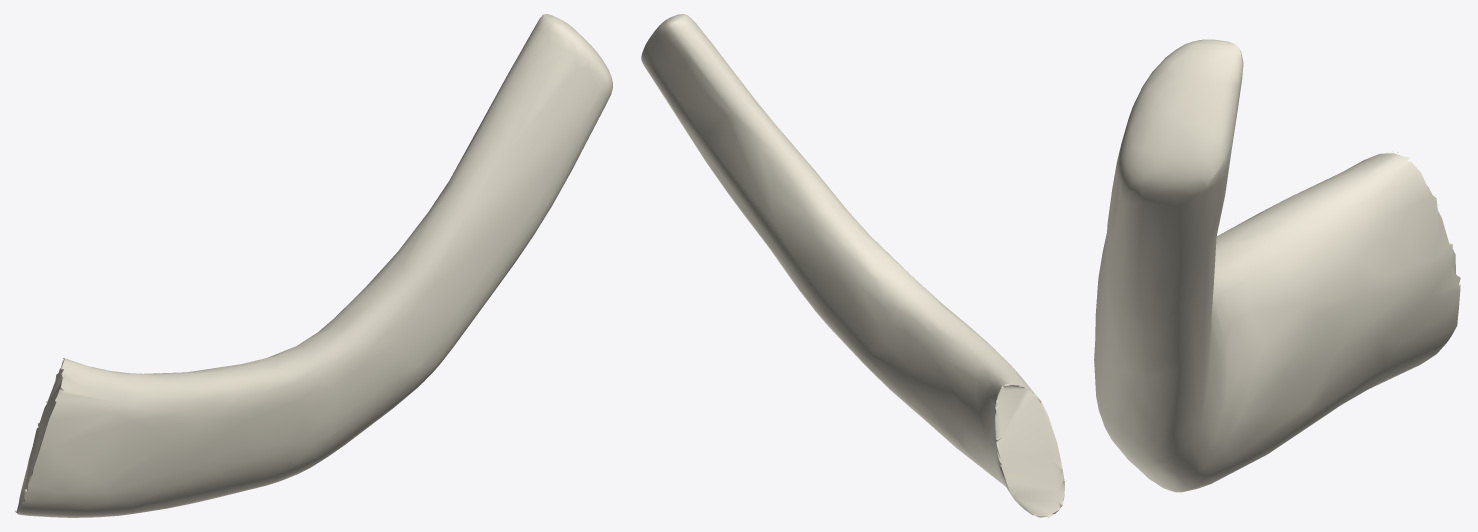
File: fma8194_fj3343.glb
3 renders of one model, left to right at view 1: azimuth 30°, elevation 25°; view 2: azimuth 150°, elevation 25°; view 3: azimuth 270°, elevation 25°, orthographic. The views are drawn at different scales.
Visible parts, largest first — view 1: FMA8194_FJ3343; view 2: FMA8194_FJ3343; view 3: FMA8194_FJ3343.
Part boxes in pixels (x1=…): FMA8194_FJ3343: x1=14, y1=14, x2=612, y2=517; FMA8194_FJ3343: x1=641, y1=14, x2=1064, y2=517; FMA8194_FJ3343: x1=1094, y1=39, x2=1460, y2=492.
Bounding box in the file's own units: 0.0798 × 0.0597 × 0.0274.
